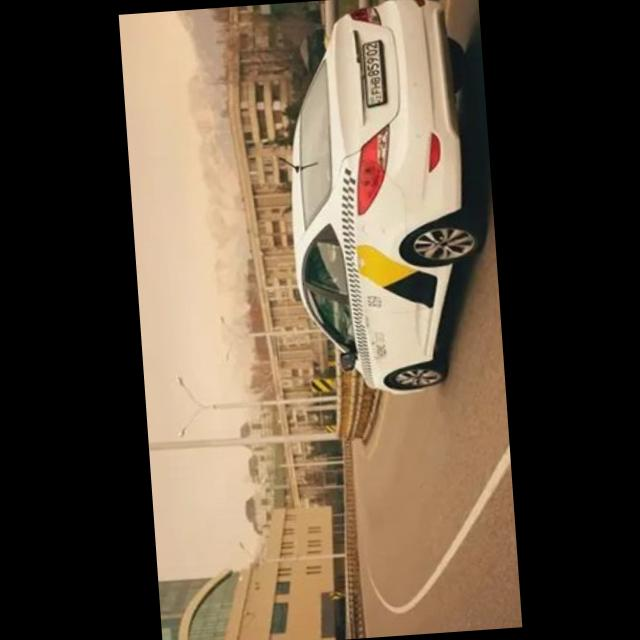taxi: (267, 1, 496, 403)
